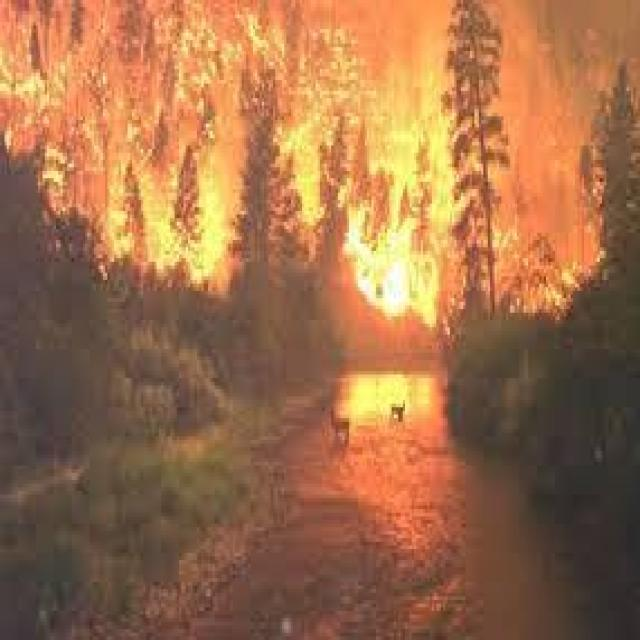Fire: (0, 1, 465, 328), (534, 262, 598, 320), (486, 218, 524, 265)
Smoke: (474, 0, 589, 249)
